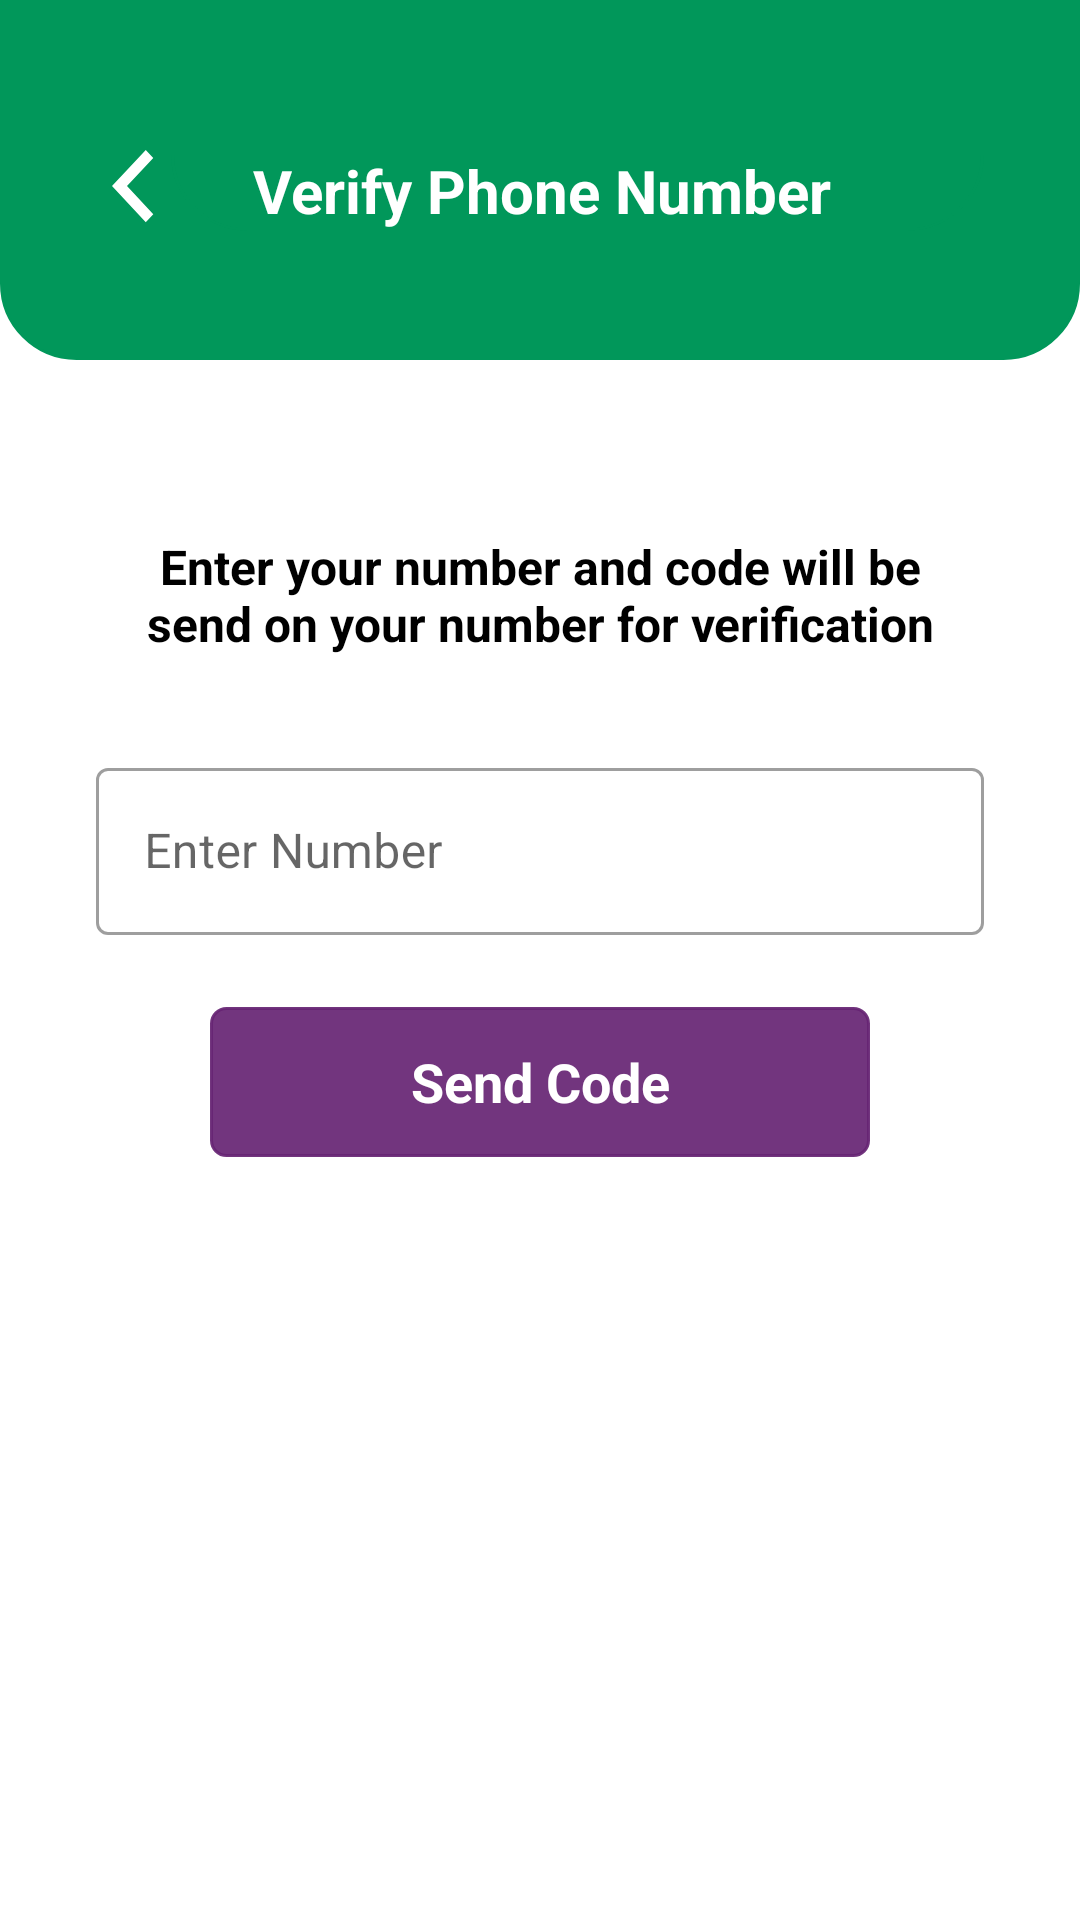

Icon bounding boxes for this 1080*1920 phone screenshot, format bbox=[x1, y1, x2, y2]:
back: bbox=[112, 150, 153, 222]
